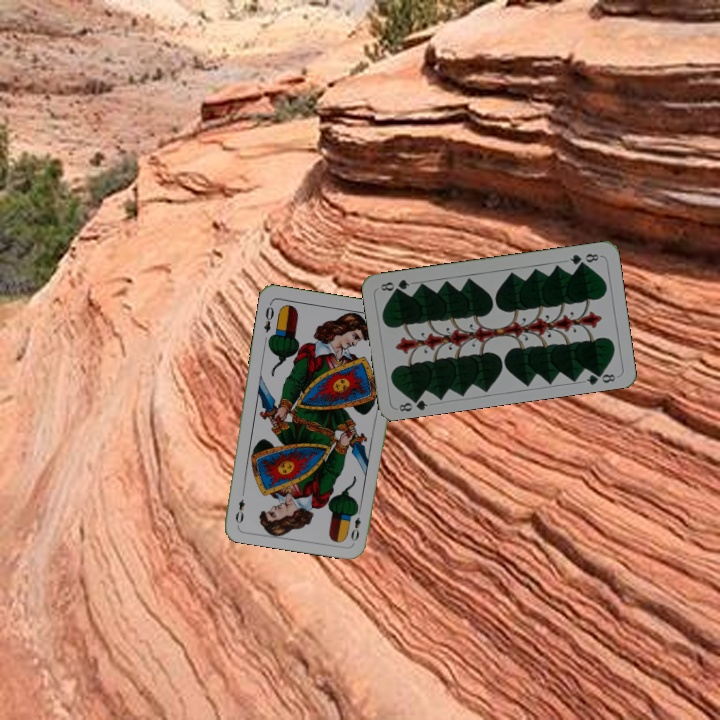EO: (347, 504, 363, 543), (260, 299, 276, 335)
G8: (395, 392, 430, 414), (566, 249, 603, 267)
